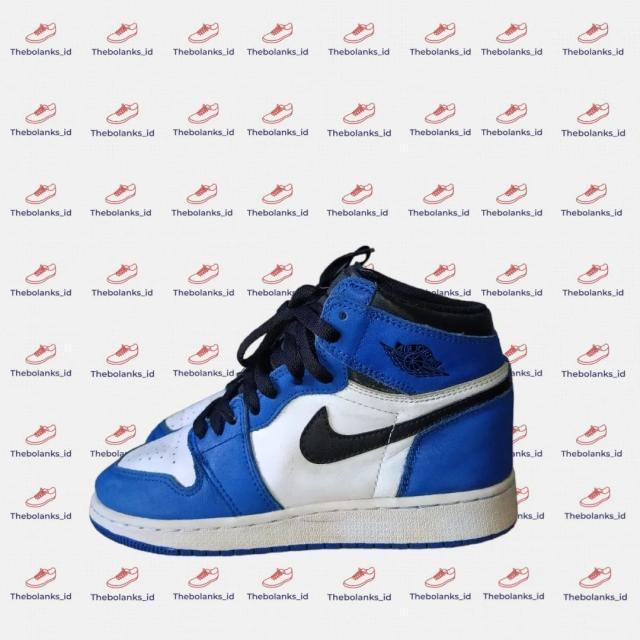nike fake jordan 1: (81, 266, 518, 554)
